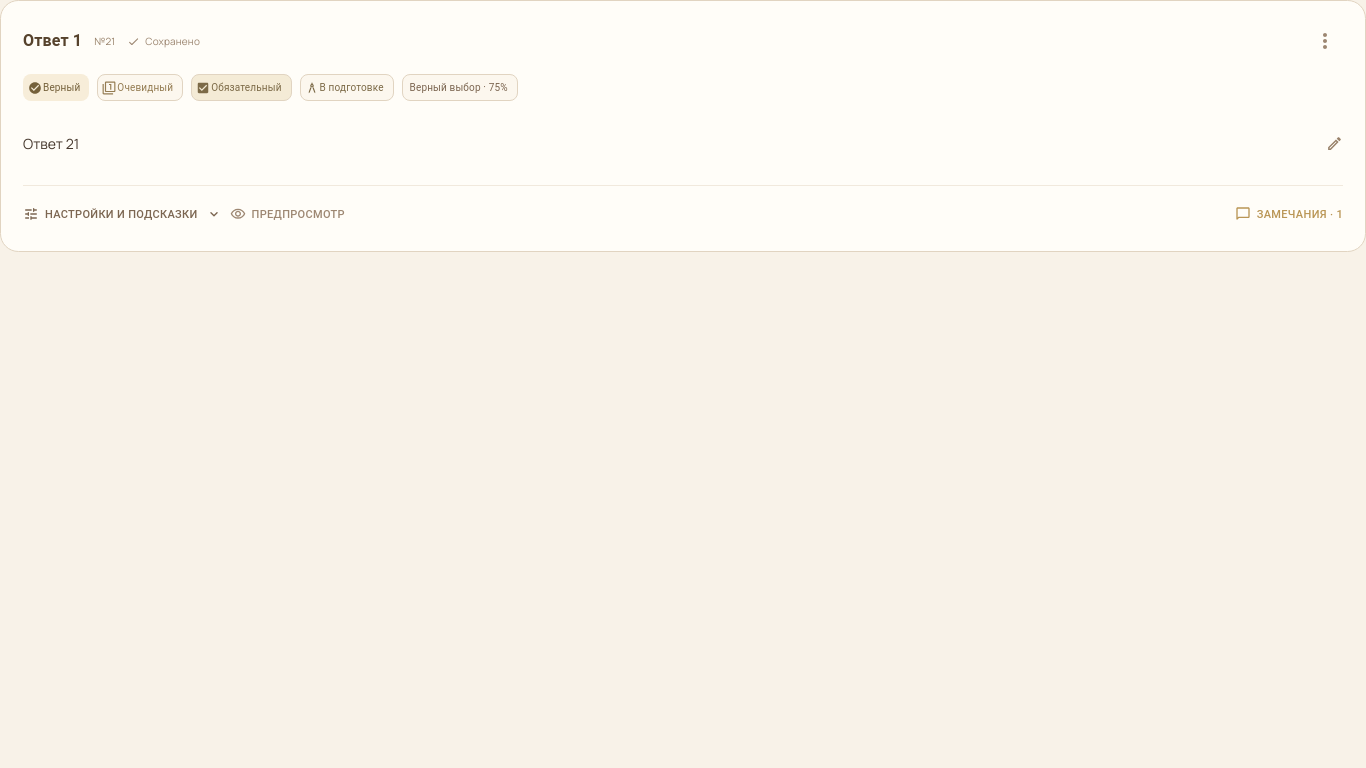
Test: reports use RTK cache, tolerate an empty profile and refresh after moderation
This screenshot has width=1366, height=768.
Click the button "Замечания · 1": (1289, 214) [1235,199,1343,229]
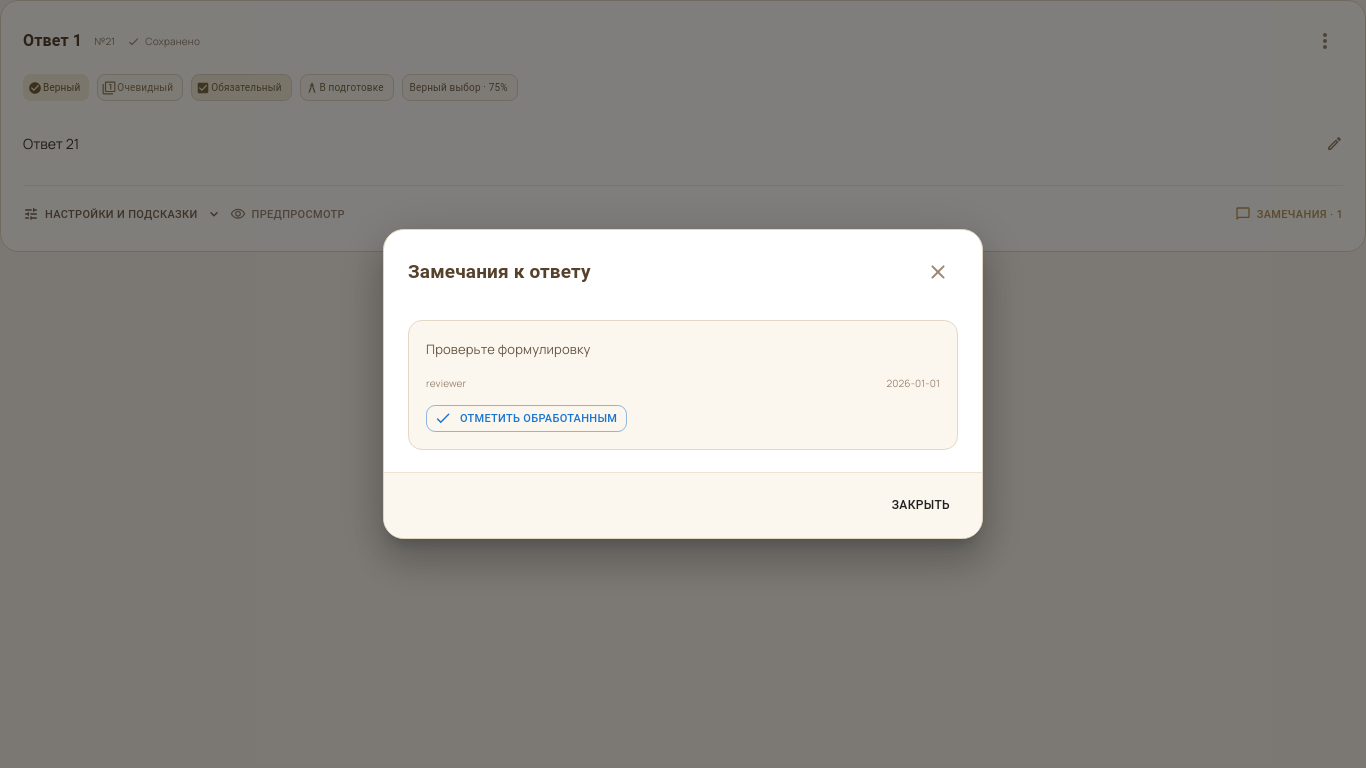
Now the text "reviewer" is shown, box [426,376,466,391]
Click the button "Отметить обработанным": (527, 418) [426,405,627,432]
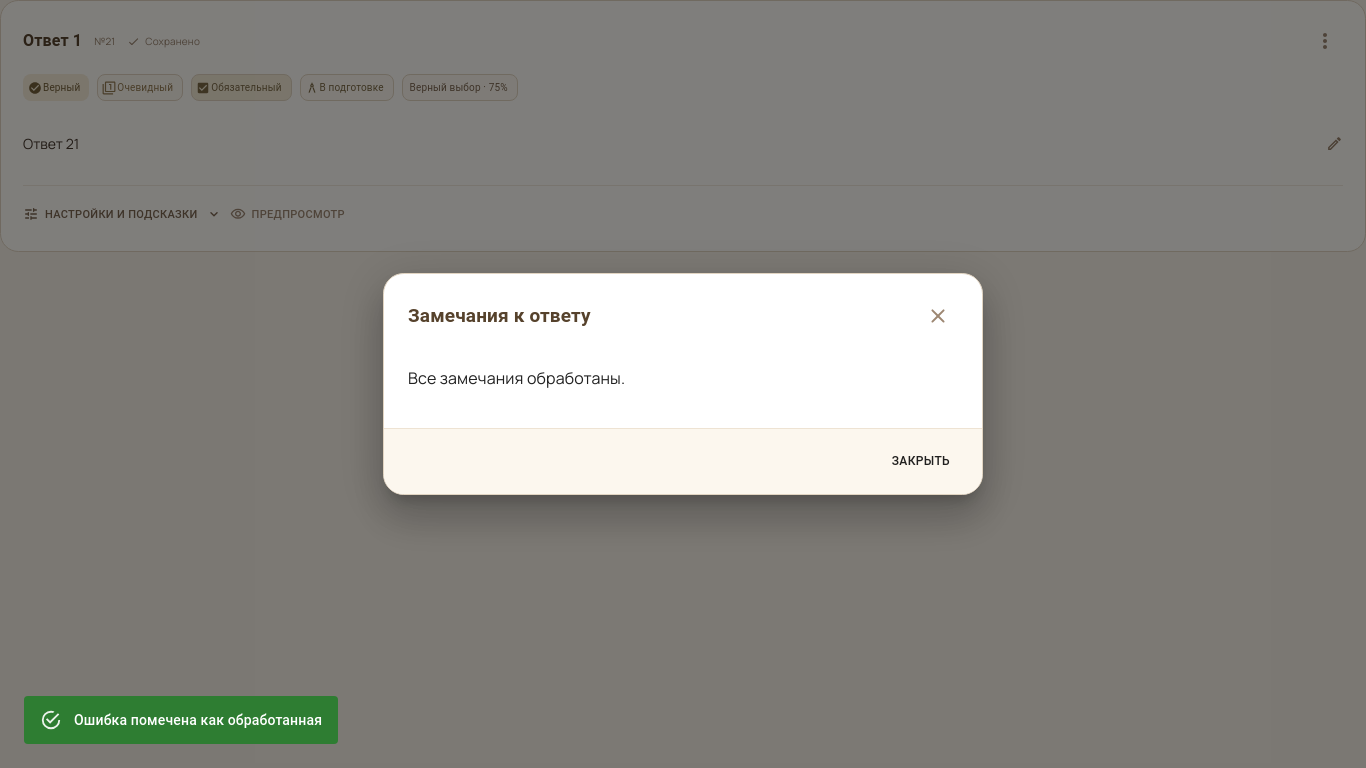
Now the text "Все замечания обработаны" is shown, box [408,367,625,389]
